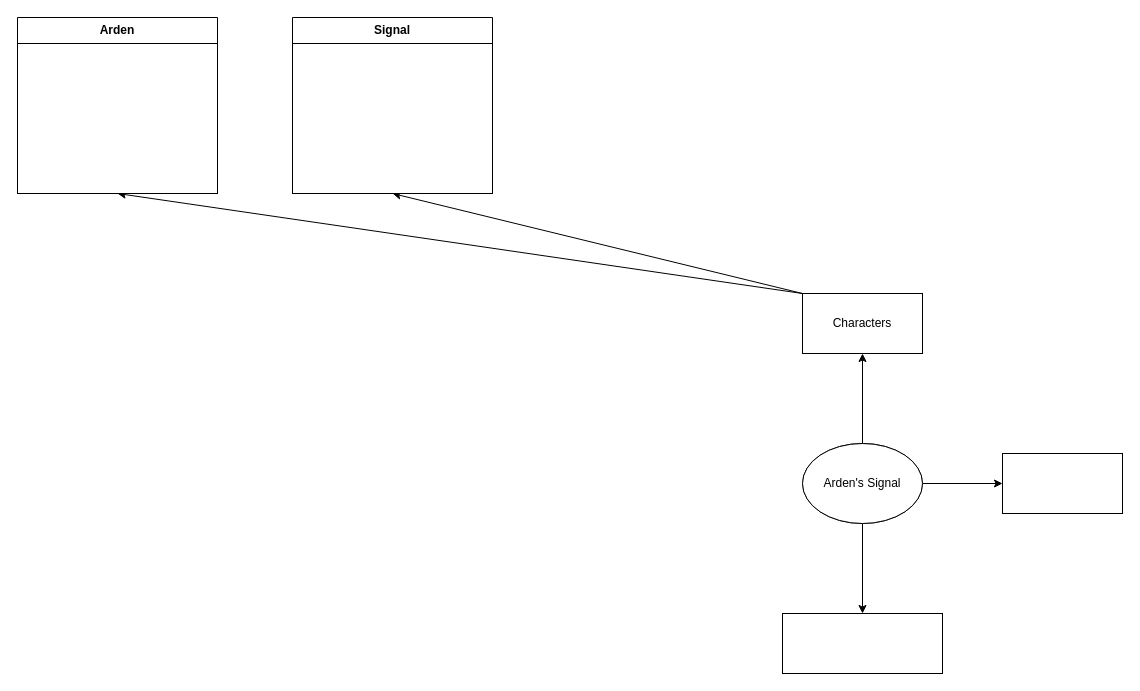
This 1140x691 diagram has some shape labels left out. Each missing label, with the centre of its shape:
"Applications/Mechanics" belongs at point (862, 643).
"Chapters" belongs at point (1062, 483).
